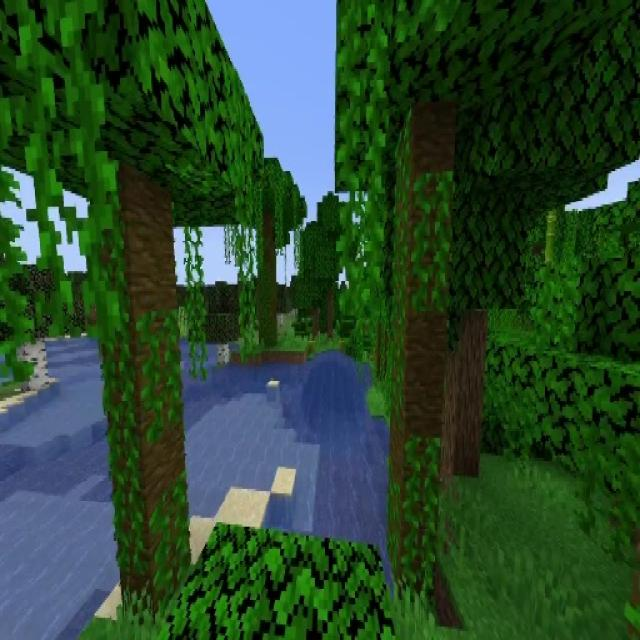birch: (0, 262, 72, 394), (201, 286, 241, 365)
birch_log: (18, 341, 48, 390), (218, 345, 228, 365)
jungle: (335, 0, 603, 605), (0, 0, 257, 609), (232, 157, 307, 348)
jungle_log: (92, 173, 194, 613), (386, 104, 454, 578), (259, 233, 276, 349)
oak_log: (445, 311, 483, 481)
